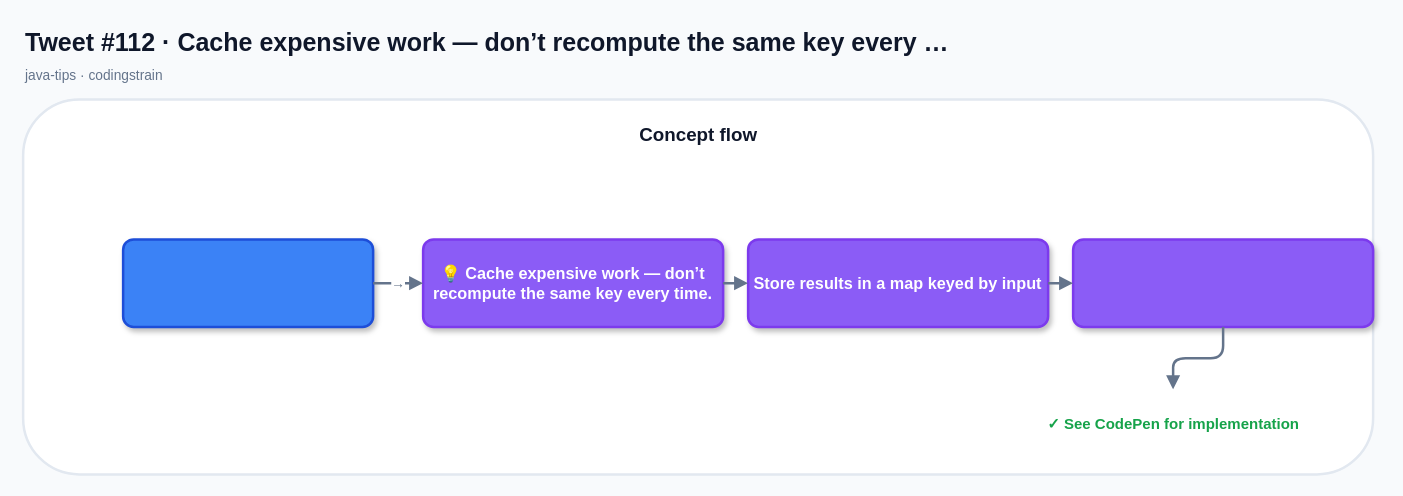
The diagram is 1403 pixels wide and 496 high, and some of its shapes have lost their labels. The shapes that lost their labels are listed below. From the top down, each one's centre as x and y in pixels, then its label:
At point (248, 284): "Problem / context".
At point (1223, 284): "Use `ConcurrentHashMap` when many threads share the cache".
